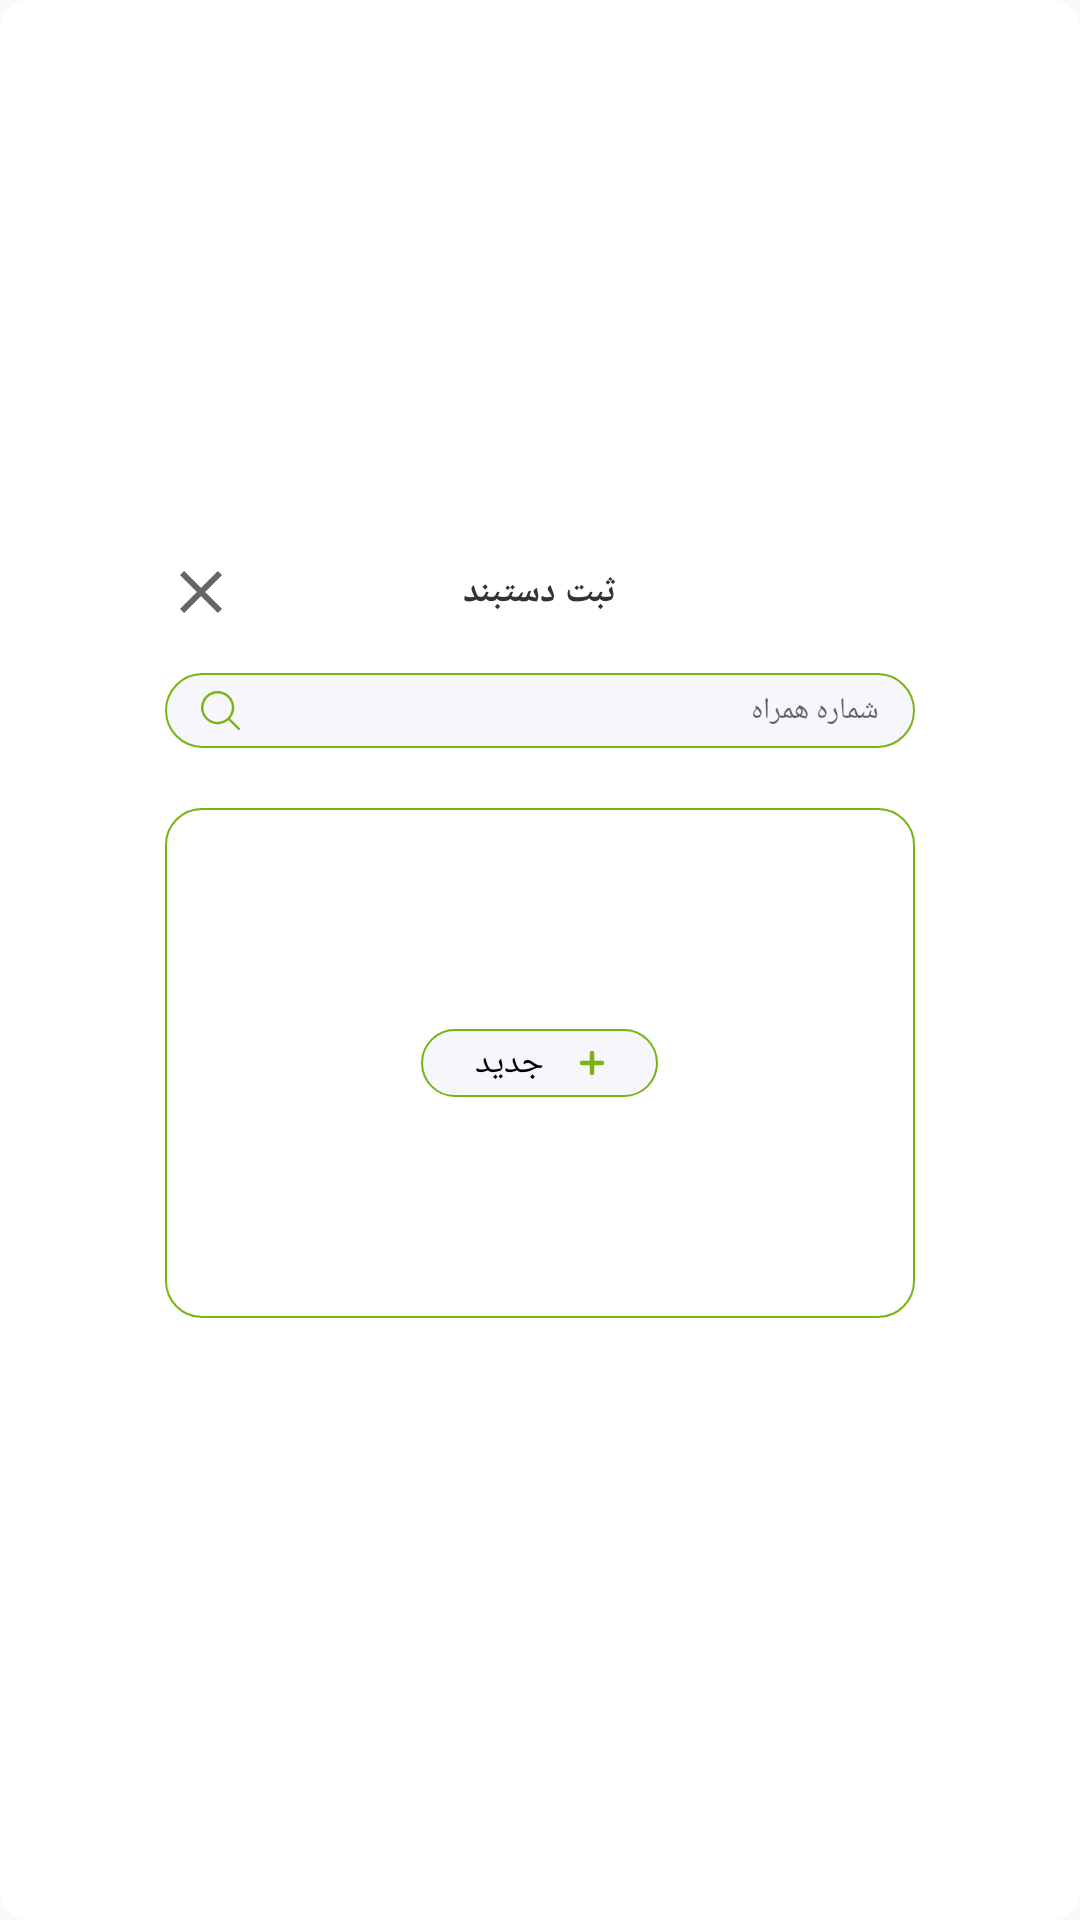

Named icons in this screenshot (1080*1920) and their bounding boxes, (x1, y1, x2, y2):
cross: (180, 571, 222, 613)
